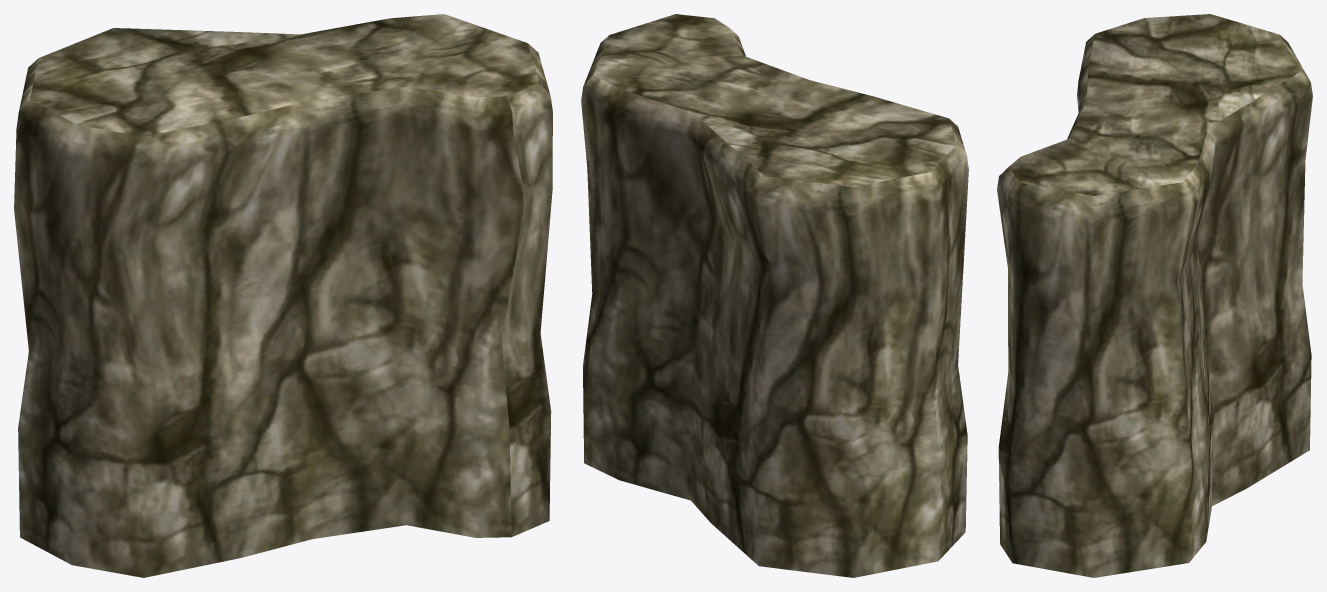
Rendered from CB_PLATFORM04.fbx.
The picture shows the model from 3 angles, left to right: view 1: azimuth 30°, elevation 25°; view 2: azimuth 150°, elevation 25°; view 3: azimuth 270°, elevation 25°; orthographic projection. The views are drawn at different scales.
Visible parts, largest first — view 1: CB_PLATFORM04; view 2: CB_PLATFORM04; view 3: CB_PLATFORM04.
Boxes of the visible parts, x1,y1,x2,y2 form: CB_PLATFORM04: (14,14,552,577); CB_PLATFORM04: (581,14,968,577); CB_PLATFORM04: (997,14,1312,577).
Size of the model in its own units: 41863 by 38280 by 28991.
Materials: 2 (2 with a texture image).
